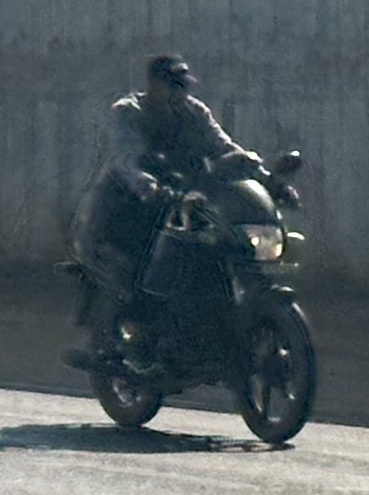BikeWithRider: (48, 49, 325, 451)
NoHelmet: (137, 49, 205, 123)
